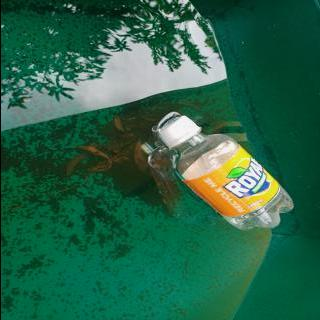bottle: (153, 112, 300, 234)
